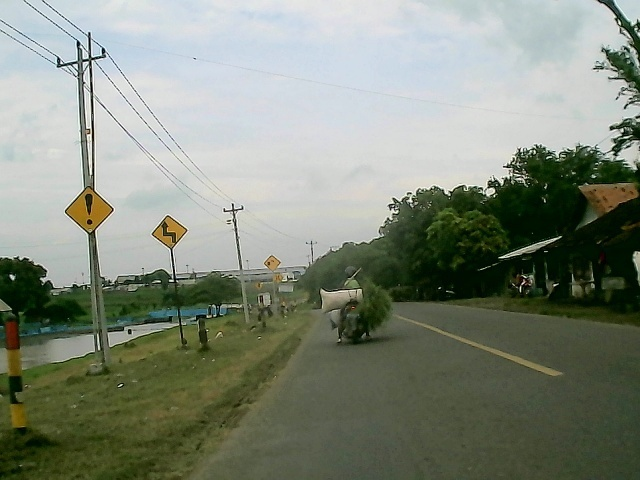Hati-hati: (64, 186, 114, 235)
Tikungan garda pertama kiri: (151, 214, 189, 251)
